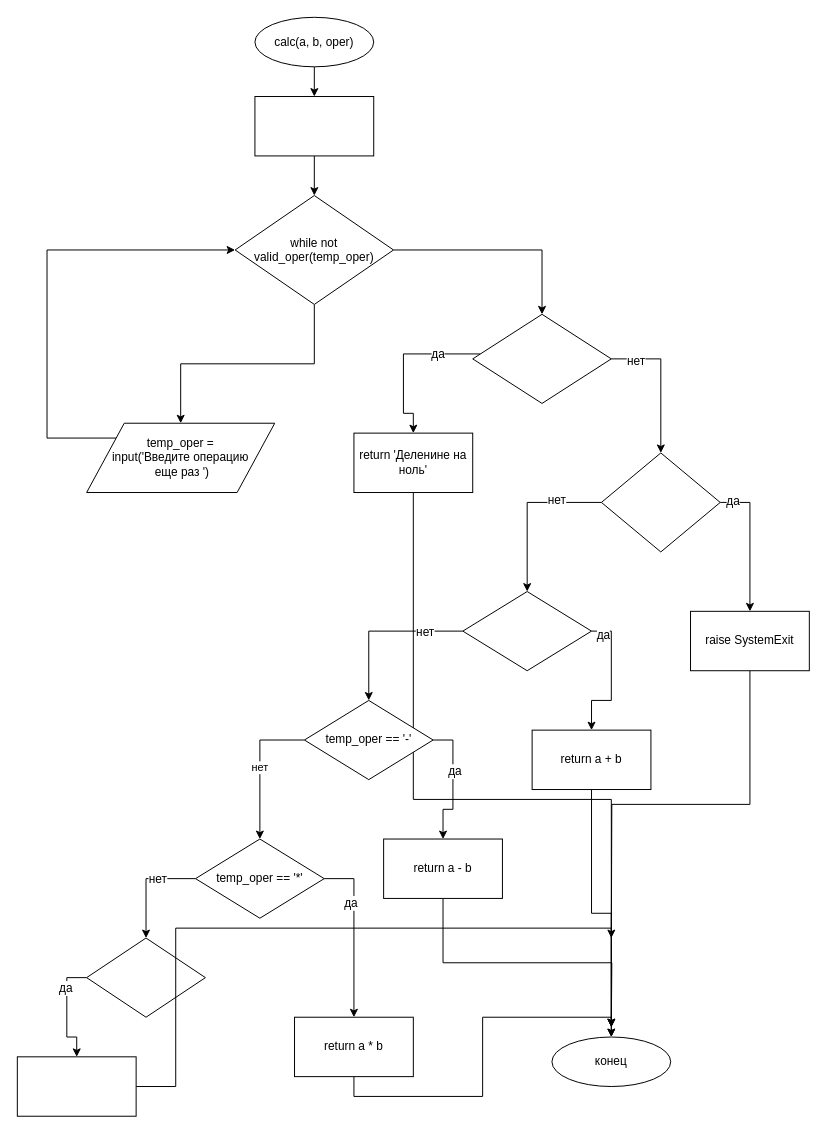
The diagram is 827 pixels wide and 1134 high, and some of its shapes have lost their labels. Each missing label, with the centre of its shape:
b == 0 and temp_oper == '/':: the point at 541,358
return a / b: the point at 76,1086
temp_oper = Oper: the point at 314,126
temp_oper == '+': the point at 527,631
temp_oper == '/': the point at 145,977
temp_oper == '0': the point at 660,502
